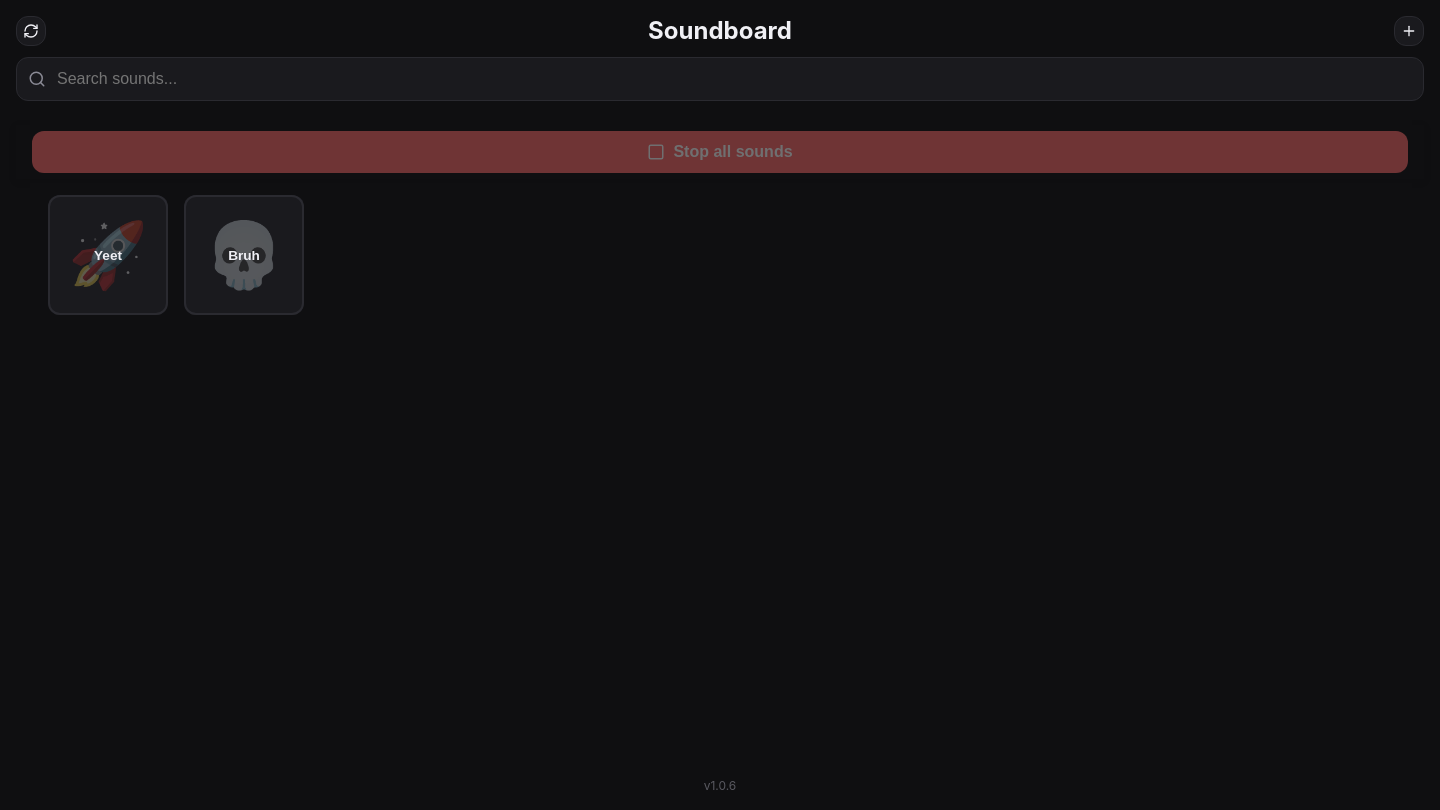
Test case: App › shows no results message for unmatched query
The image size is (1440, 810).
Expected: the text "Yeet" is shown, [94,248,122,262]
Type "nonexistent" into the field with placeholder "Search sounds..." at point(720, 79), box [16,57,1424,101]
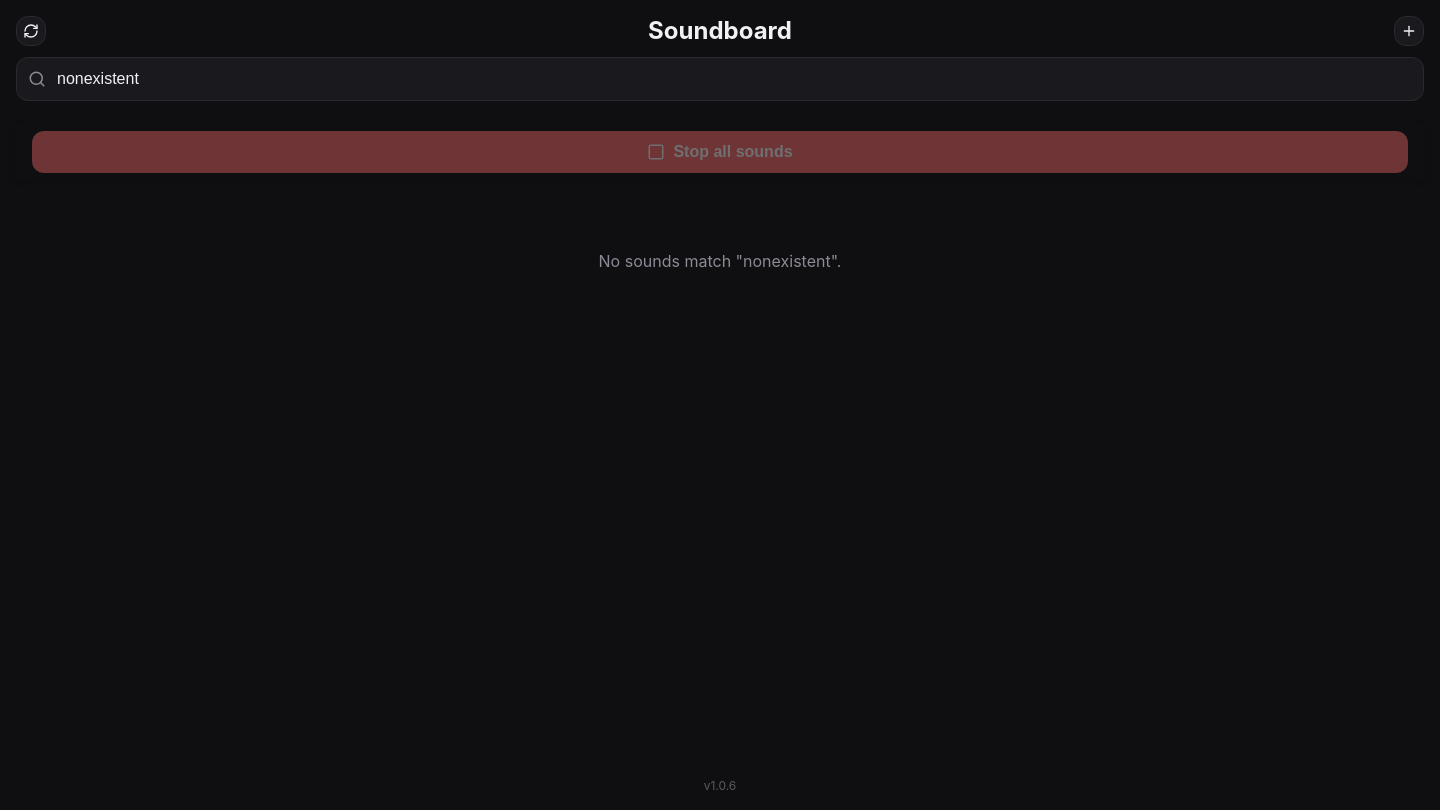
Result: the text "No sounds match \"nonexistent\"." is shown at [599,251,842,271]
